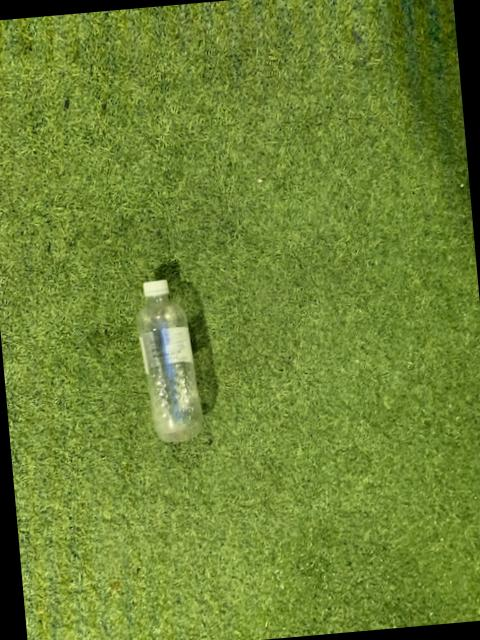plastic: (138, 282, 203, 442)
